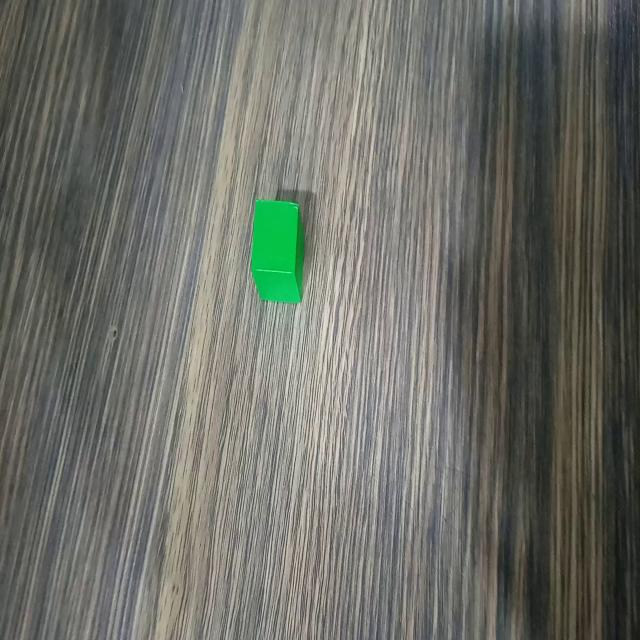cube: (248, 192, 309, 307)
